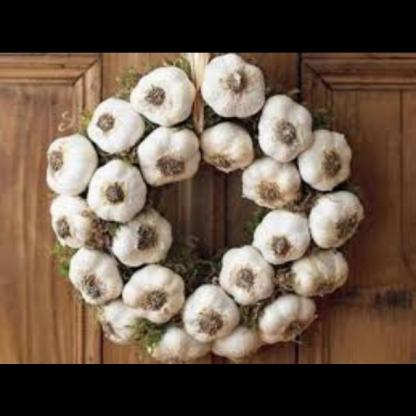garlic: (220, 56, 364, 364), (44, 68, 187, 341), (137, 52, 263, 182), (129, 260, 265, 363)
